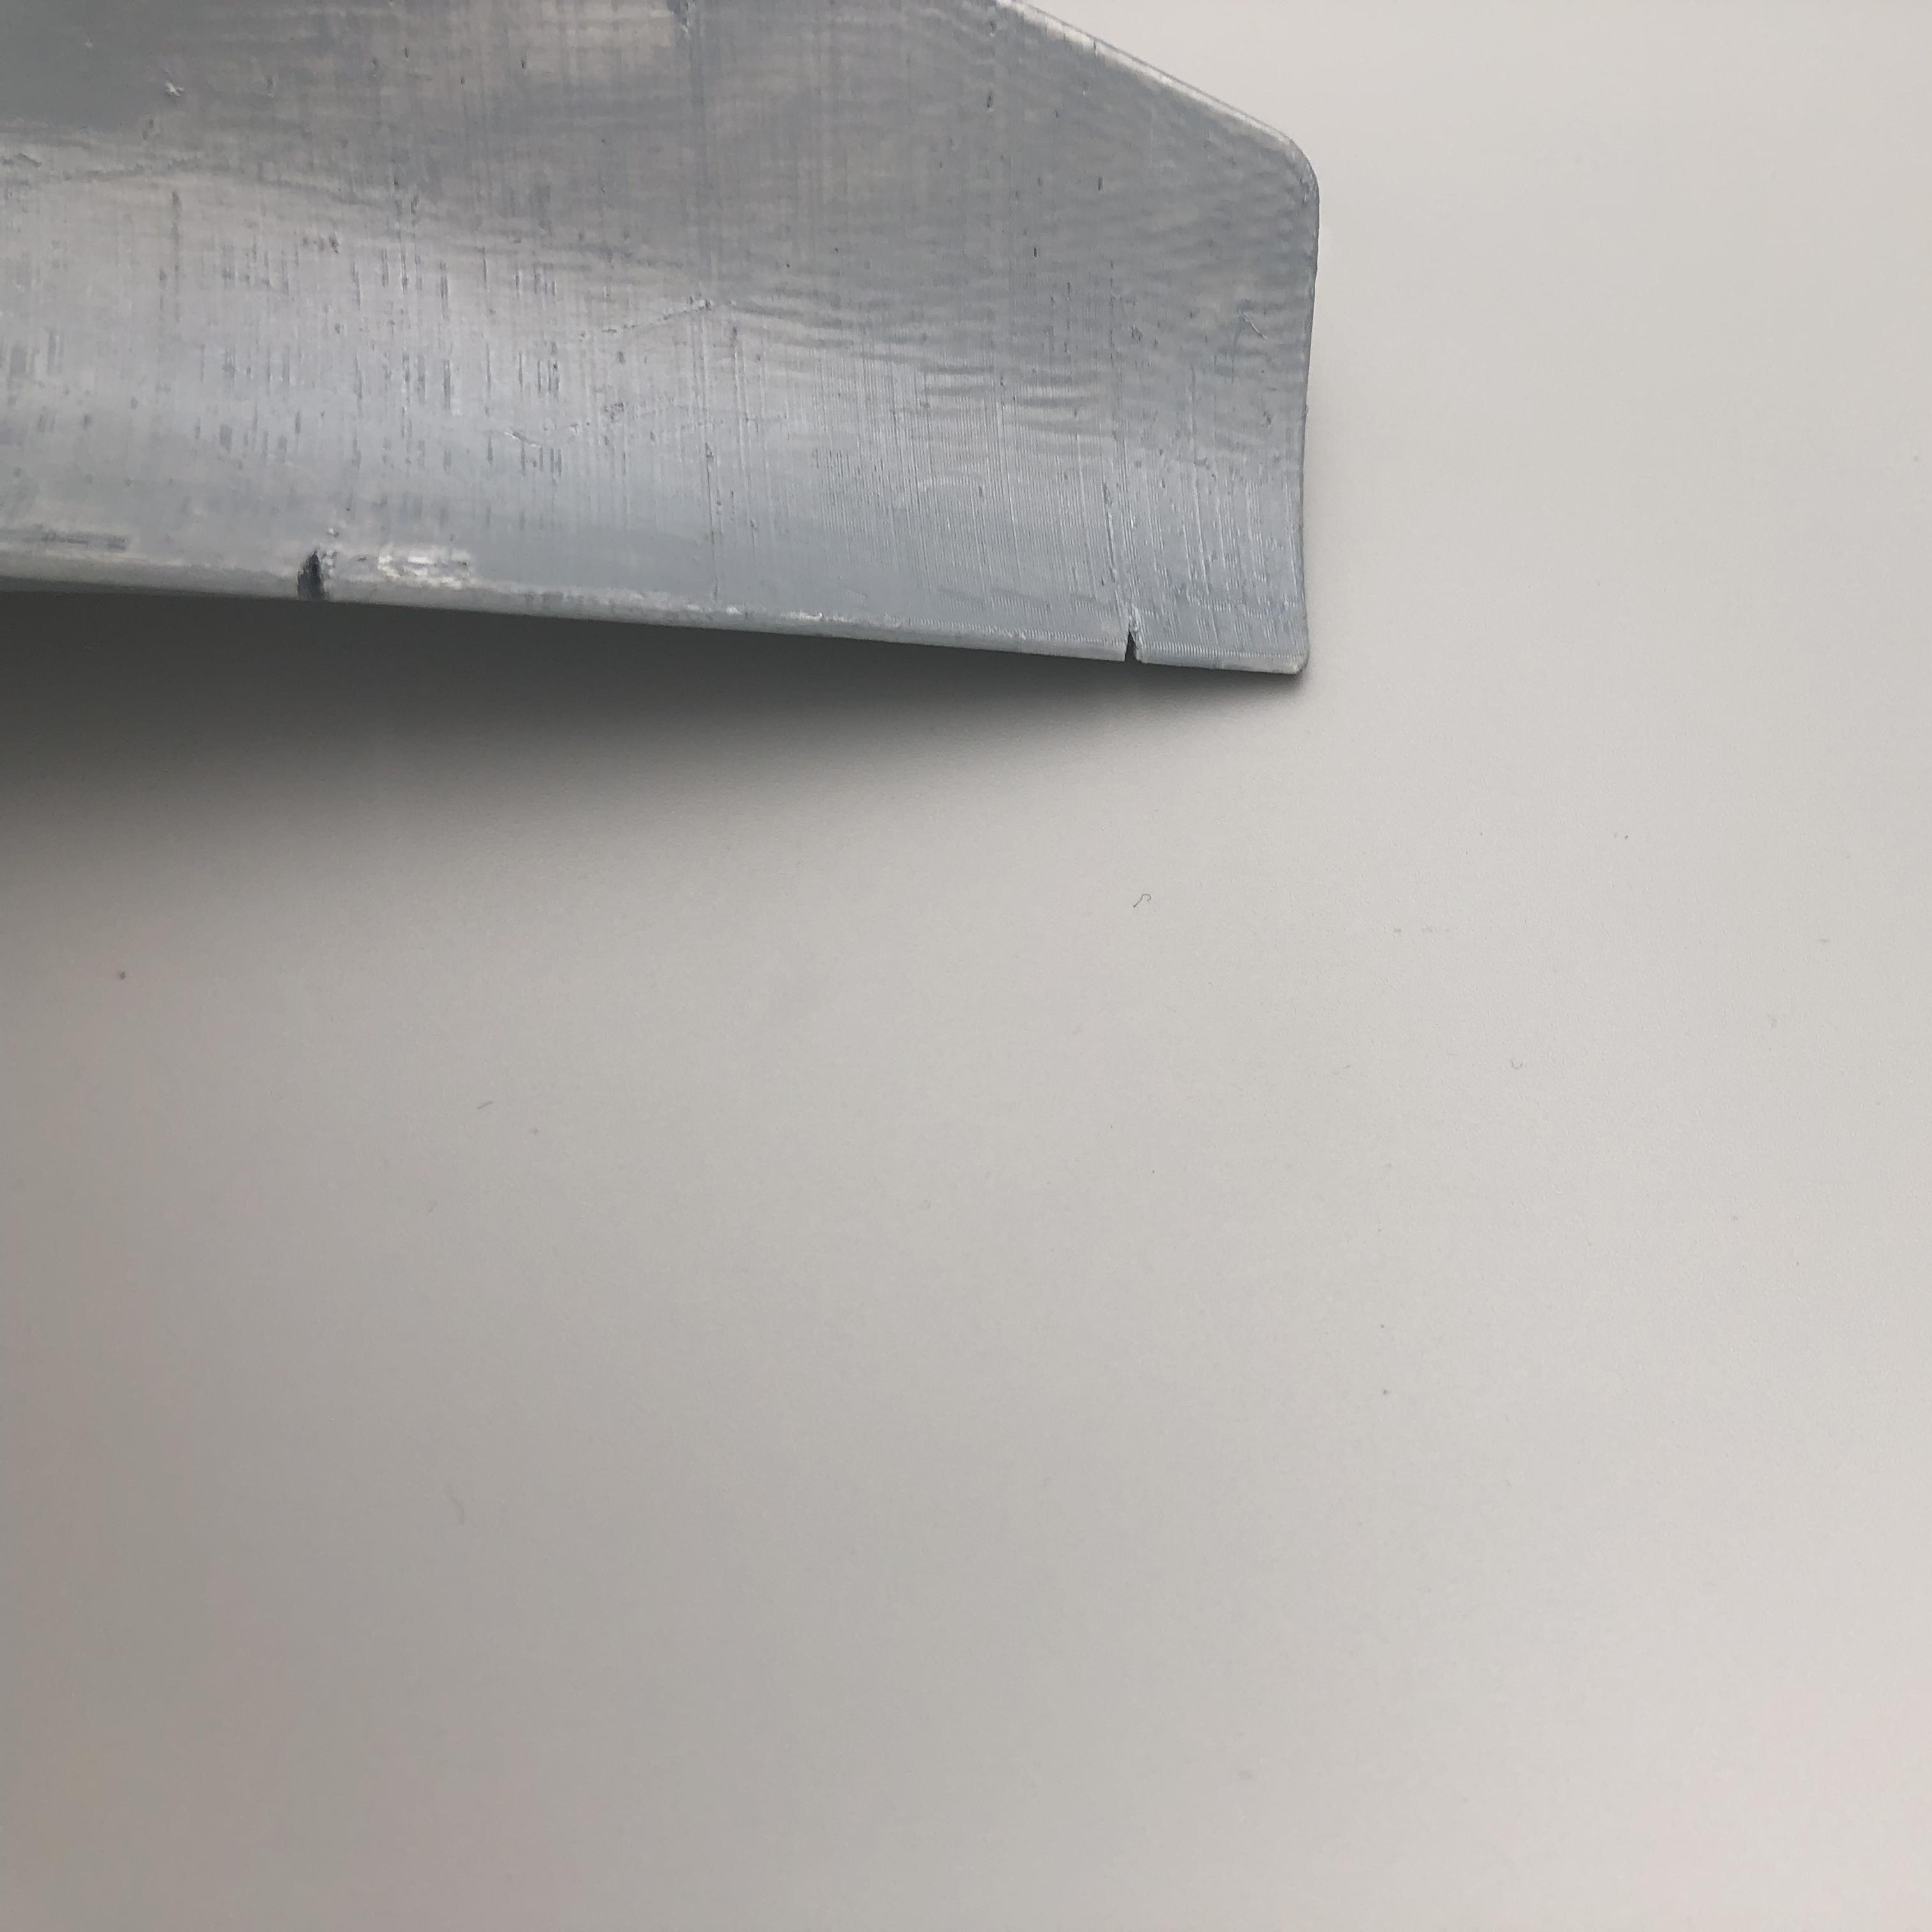groove: (292, 554, 372, 594), (1118, 621, 1168, 660)
